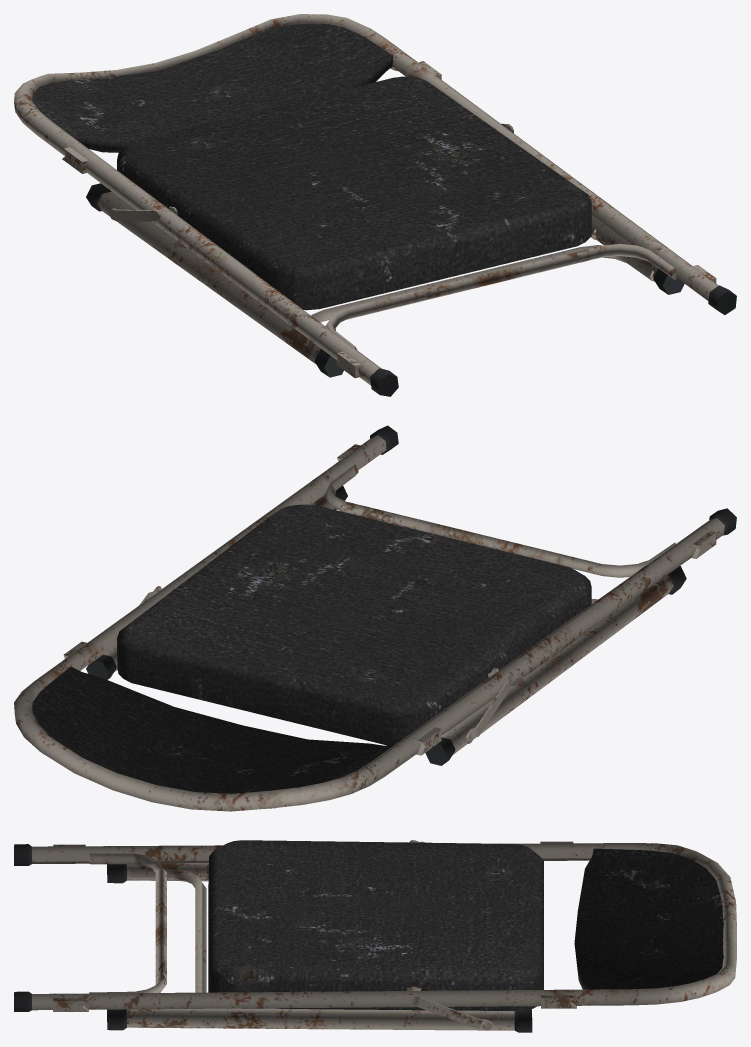
The model's file is 199_foldingchair01a.fbx.
3 renders of one model, top to bottom at view 1: azimuth 30°, elevation 25°; view 2: azimuth 150°, elevation 25°; view 3: azimuth 270°, elevation 25°, orthographic. The views are drawn at different scales.
Parts seen in each view (by area): view 1: LOD_1_Group_0_Sub_1__sm30_153_FoldingChair01A_A_Mat; view 2: LOD_1_Group_0_Sub_1__sm30_153_FoldingChair01A_A_Mat; view 3: LOD_1_Group_0_Sub_1__sm30_153_FoldingChair01A_A_Mat.
Part boxes in pixels (box(x1,y1,x2,y2)): LOD_1_Group_0_Sub_1__sm30_153_FoldingChair01A_A_Mat: box(14, 14, 736, 396); LOD_1_Group_0_Sub_1__sm30_153_FoldingChair01A_A_Mat: box(14, 425, 736, 811); LOD_1_Group_0_Sub_1__sm30_153_FoldingChair01A_A_Mat: box(14, 840, 736, 1032).
Size of the model in its own units: 0.6749 by 0.1034 by 1.3.
